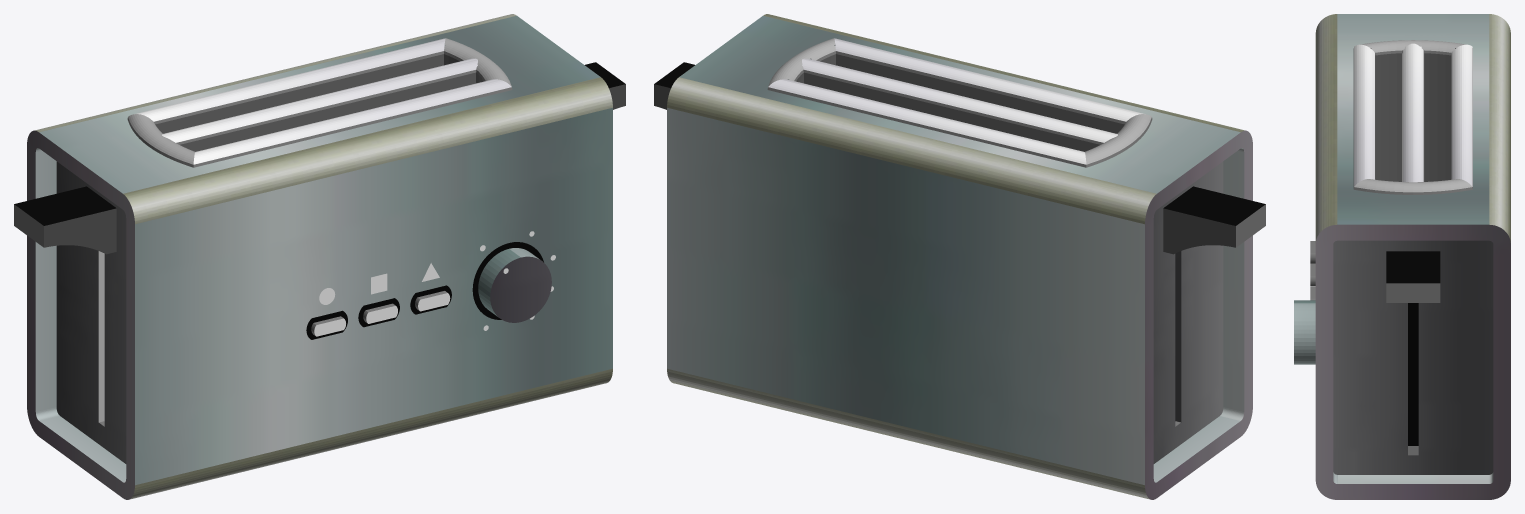
Rendered from toaster.dae.
3 views of the same model, side by side, from view 1: azimuth 30°, elevation 25°; view 2: azimuth 150°, elevation 25°; view 3: azimuth 270°, elevation 25° (orthographic). The views are drawn at different scales.
Parts seen in each view (by area): view 1: skp2FDA (×26); view 2: skp2FDA (×22); view 3: skp2FDA (×20).
Part boxes in pixels (box(x1,y1,x2,y2)): skp2FDA (×26): box(14, 14, 612, 499); skp2FDA (×22): box(667, 14, 1265, 499); skp2FDA (×20): box(1294, 14, 1510, 499).
Size of the model in its own units: 11.02 by 3.94 by 5.65.
